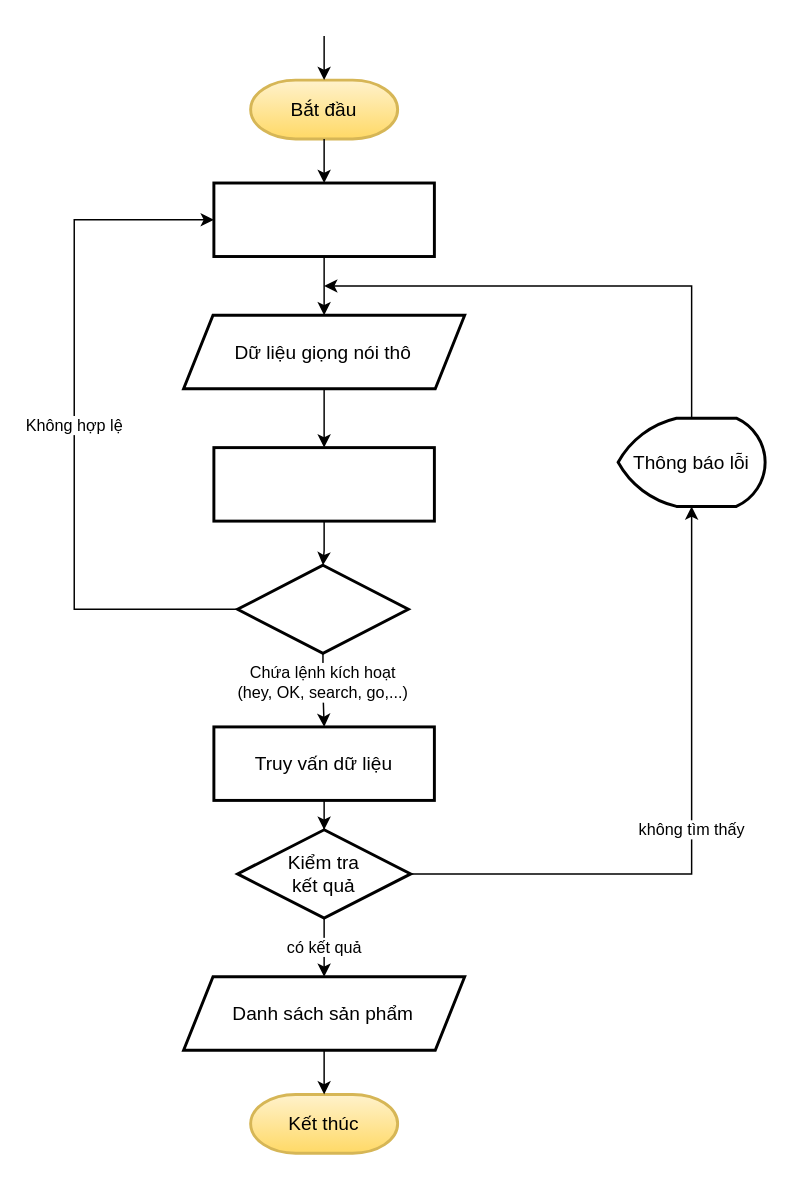
Image size: 791x1180. Some labels were removed from this diagram. Here are the shapes that lost their labels. From the top down, the centre of each, then its label:
[323,219]: Kích hoạt chức năng phân tích giọng nói
[323,483]: Phân tích từ khóa
[322,608]: Kiểm tra từ khóa
